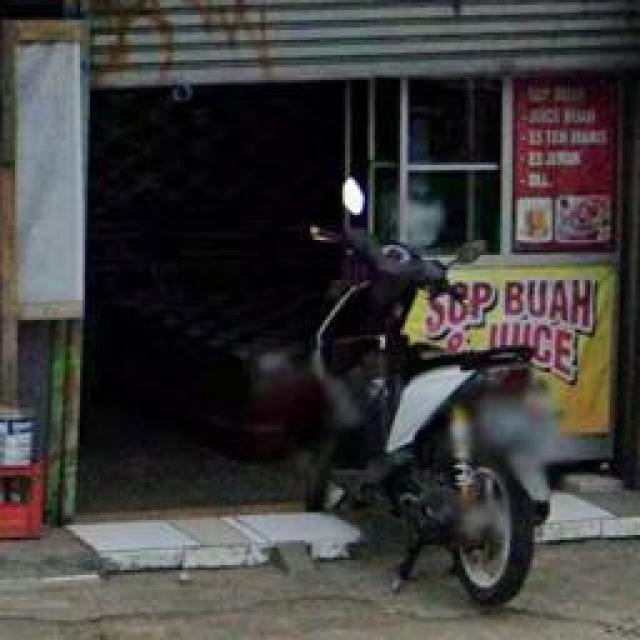Motor: (295, 180, 560, 608)
